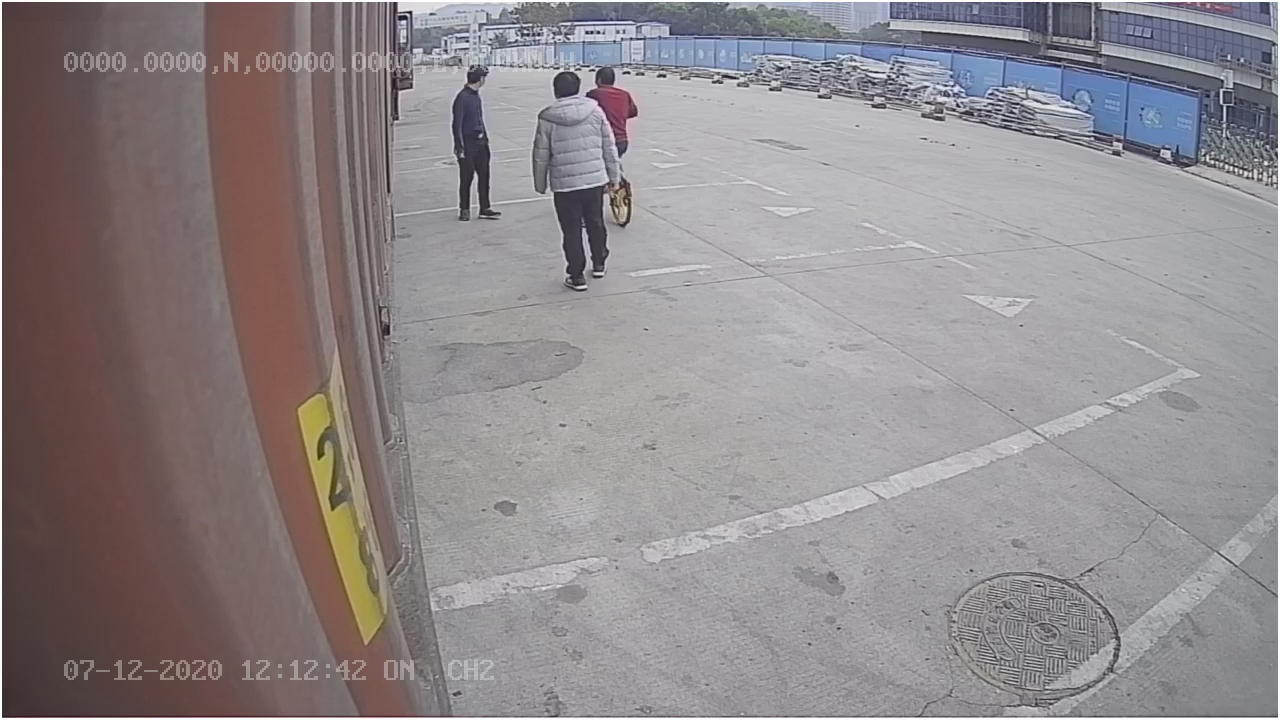person: (533, 69, 625, 290)
